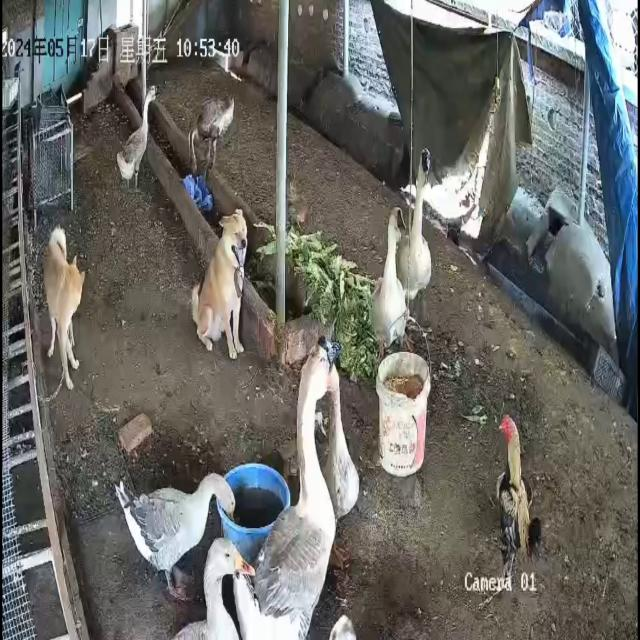dog: (191, 208, 249, 361), (44, 226, 86, 392)
